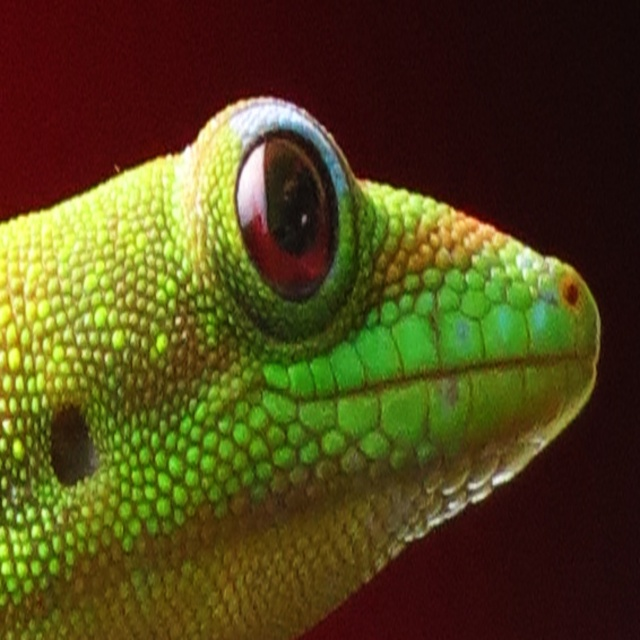Lizard: (0, 95, 600, 640)
